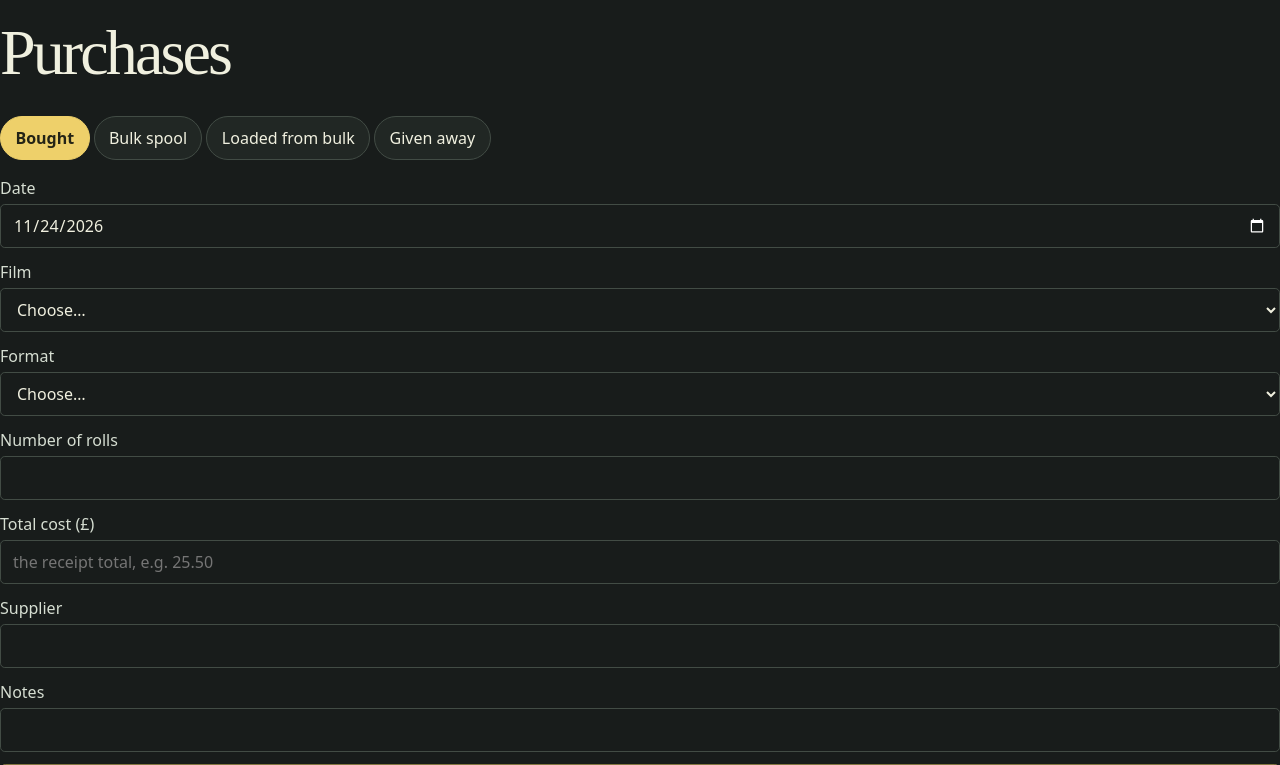
it: offers Bought, Bulk spool, Loaded from bulk and Given away modes
The width and height of the screenshot is (1280, 765).
Expected: the tab "Bulk spool" is shown, left=94, top=116, right=202, bottom=160
Expected: the tab "Given away" is shown, left=374, top=116, right=491, bottom=160
Click the tab "Loaded from bulk" at point(288, 138), box left=206, top=116, right=370, bottom=160
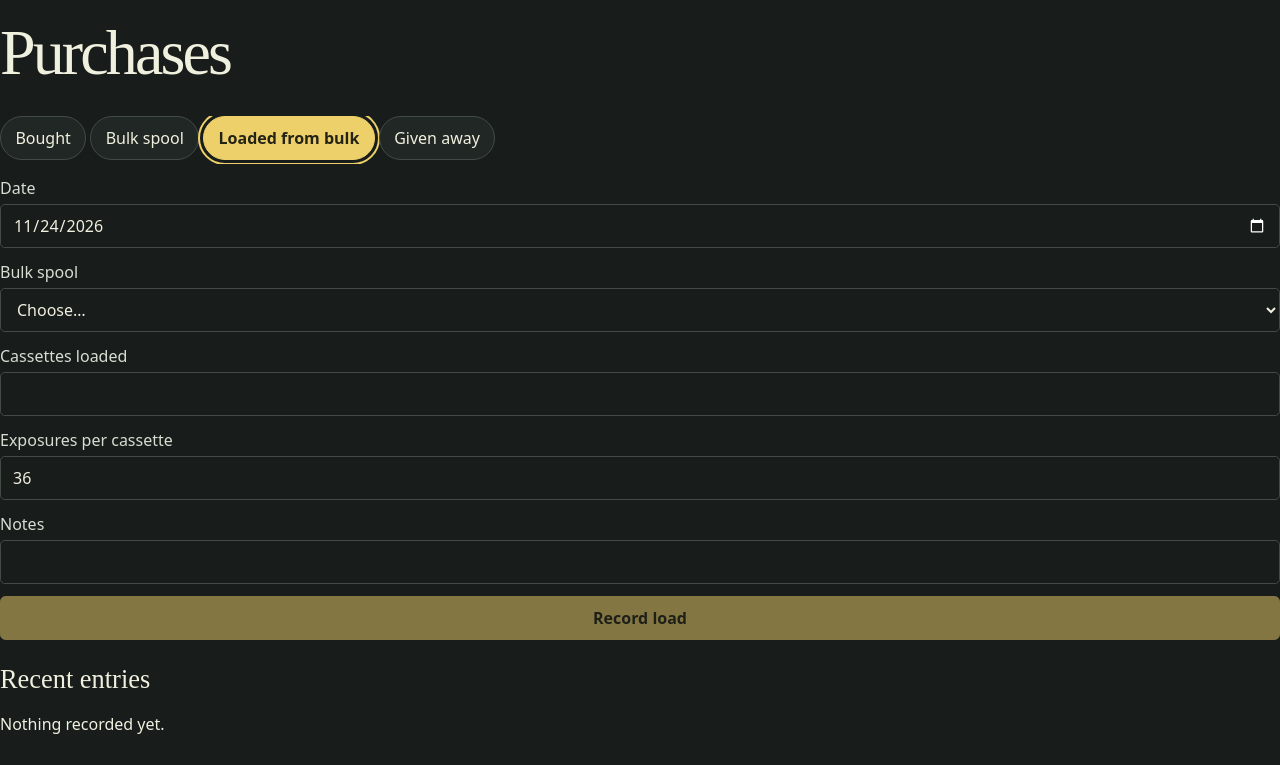
Expected: the form named "Loaded from bulk" is shown
Click the tab "Given away" at point(437, 138), box left=379, top=116, right=495, bottom=160
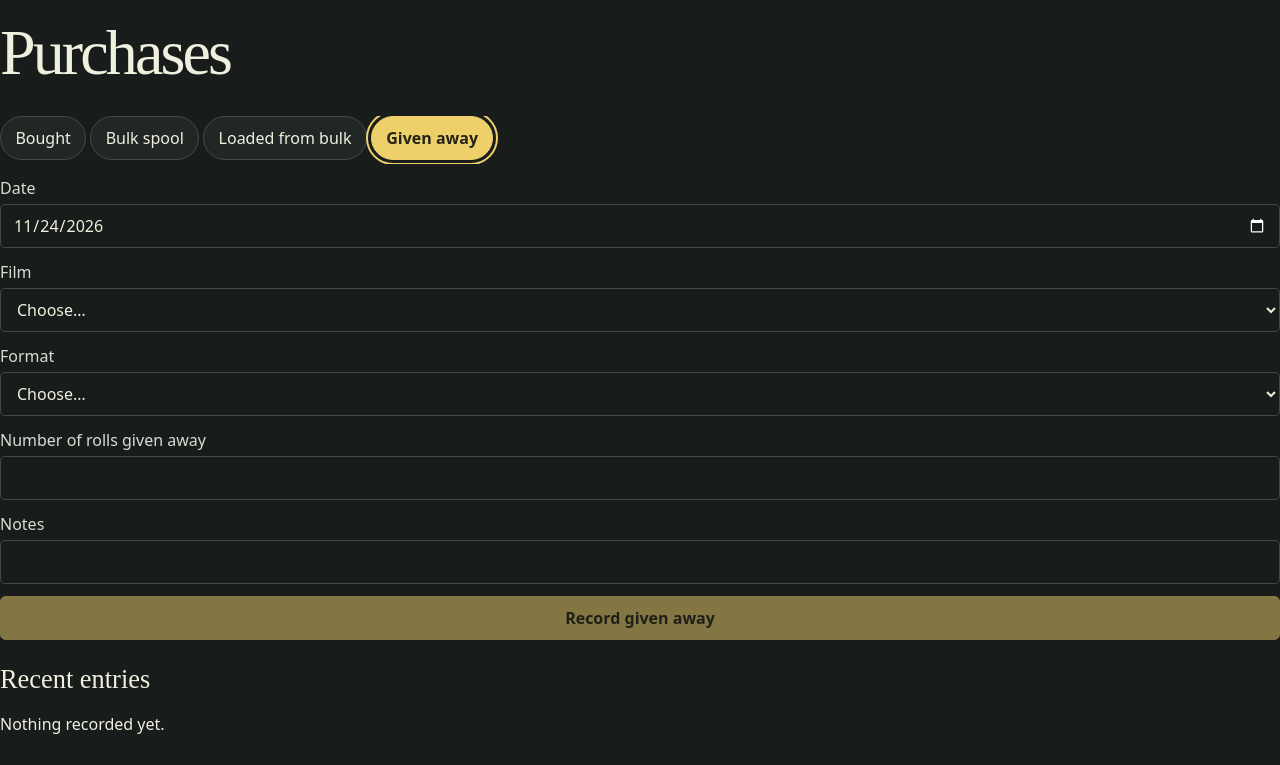
Expected: the form "given away" is shown
